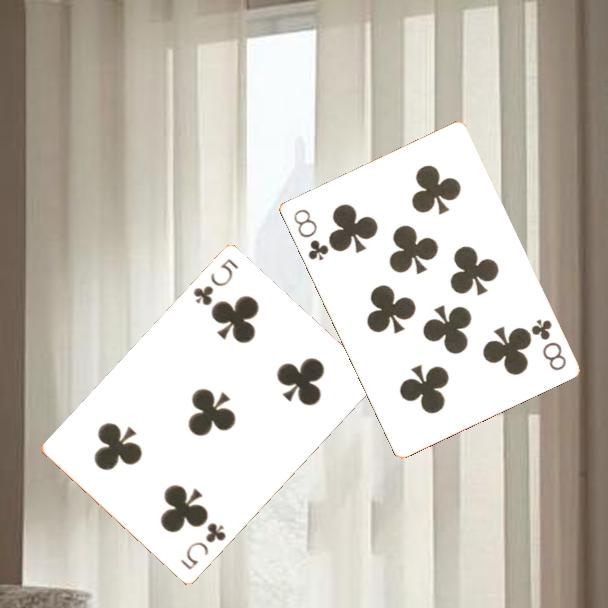c05: (177, 519, 229, 573), (190, 255, 242, 309)
c08: (527, 315, 569, 374), (290, 205, 331, 263)
